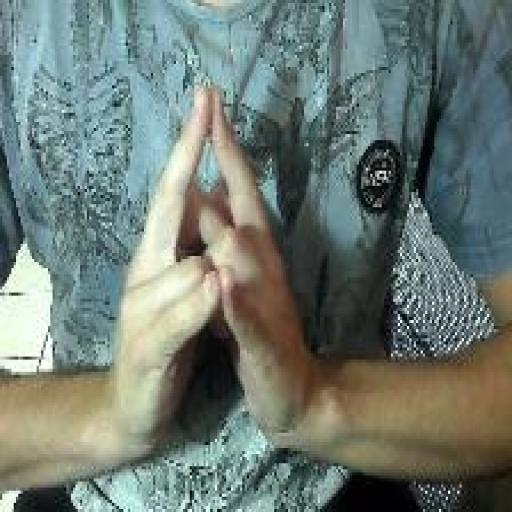Tori -bird-: (112, 79, 313, 457)
